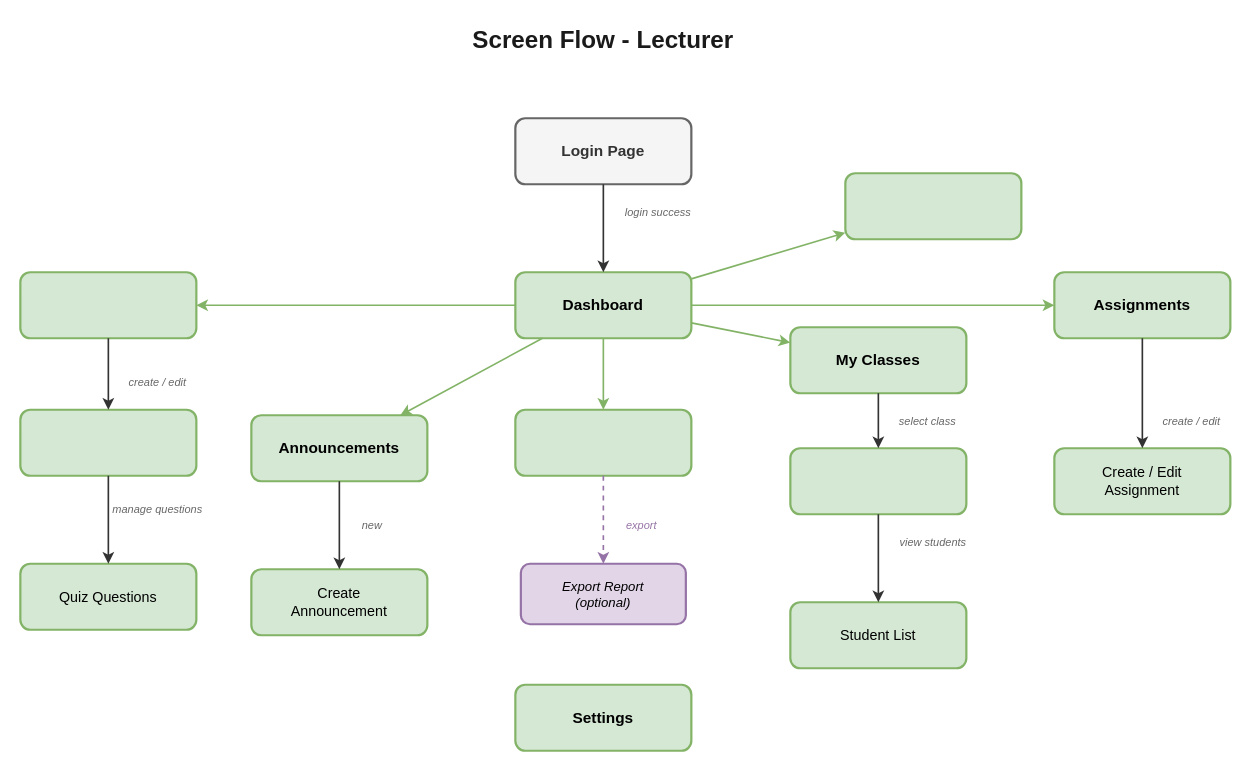
This 1250x770 diagram has some shape labels left out. The centre of each missing label's shape, as x and y in pixels:
"Analytics" belongs at point 603,442.
"Class Detail" belongs at point 878,481.
"Create / Edit Quiz" belongs at point 108,442.
"Quiz Management" belongs at point 108,305.
"Student Q&A" belongs at point 933,206.
